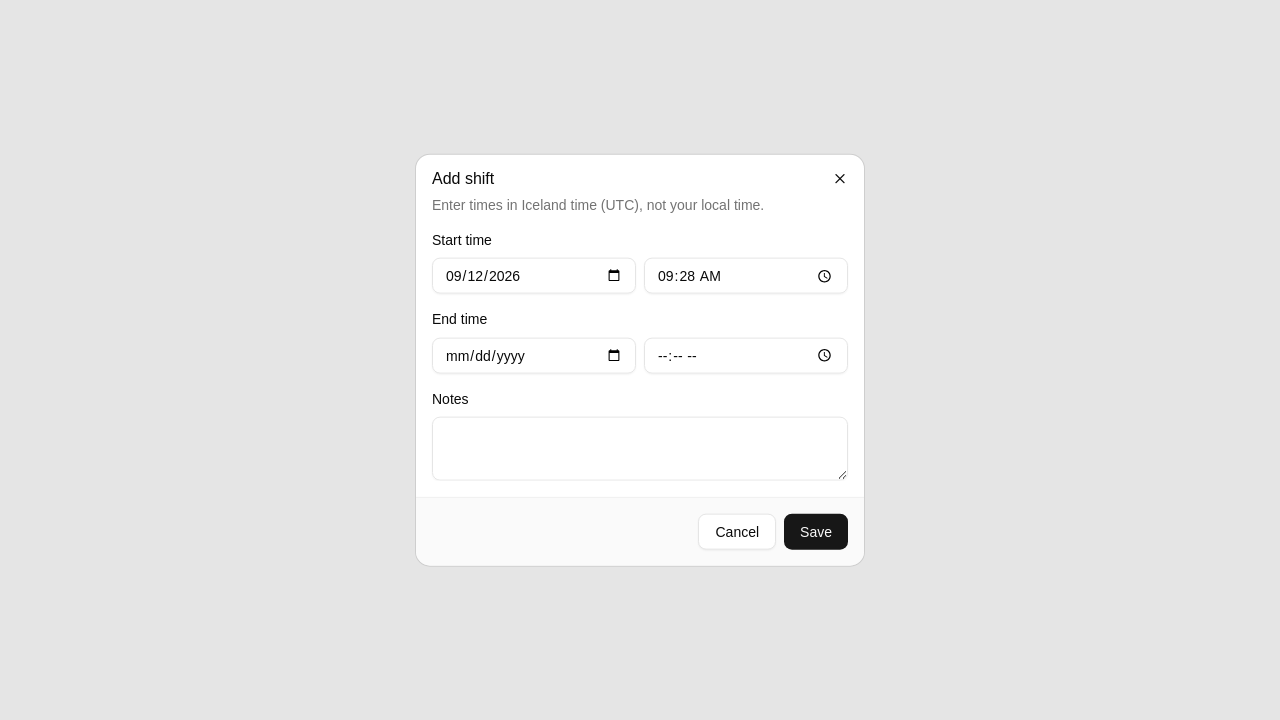
Test: ShiftForm › refuses a clock with no date beside it
Clear the date field named "Start time — date" at {"x": 534, "y": 276}, box x1=432 y1=258 x2=636 y2=294
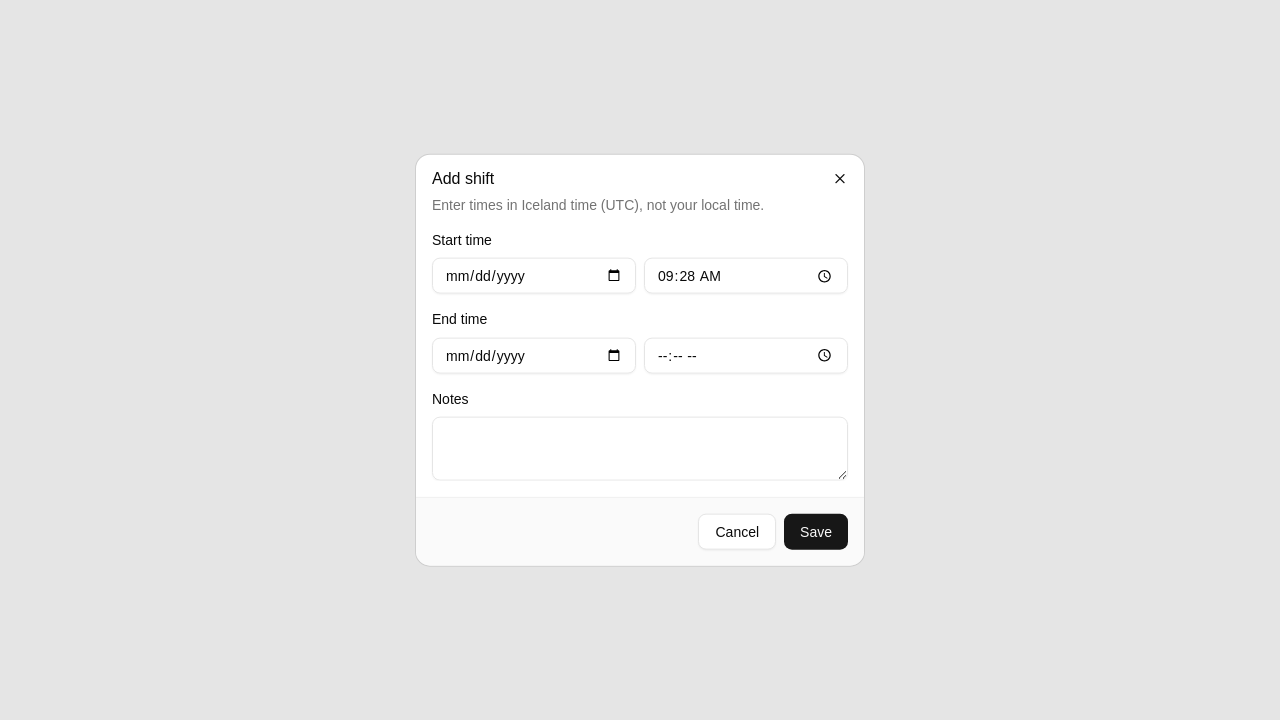
Replace the text in the time field named "Start time — time" with "08:00" at {"x": 746, "y": 276}, box x1=644 y1=258 x2=848 y2=294
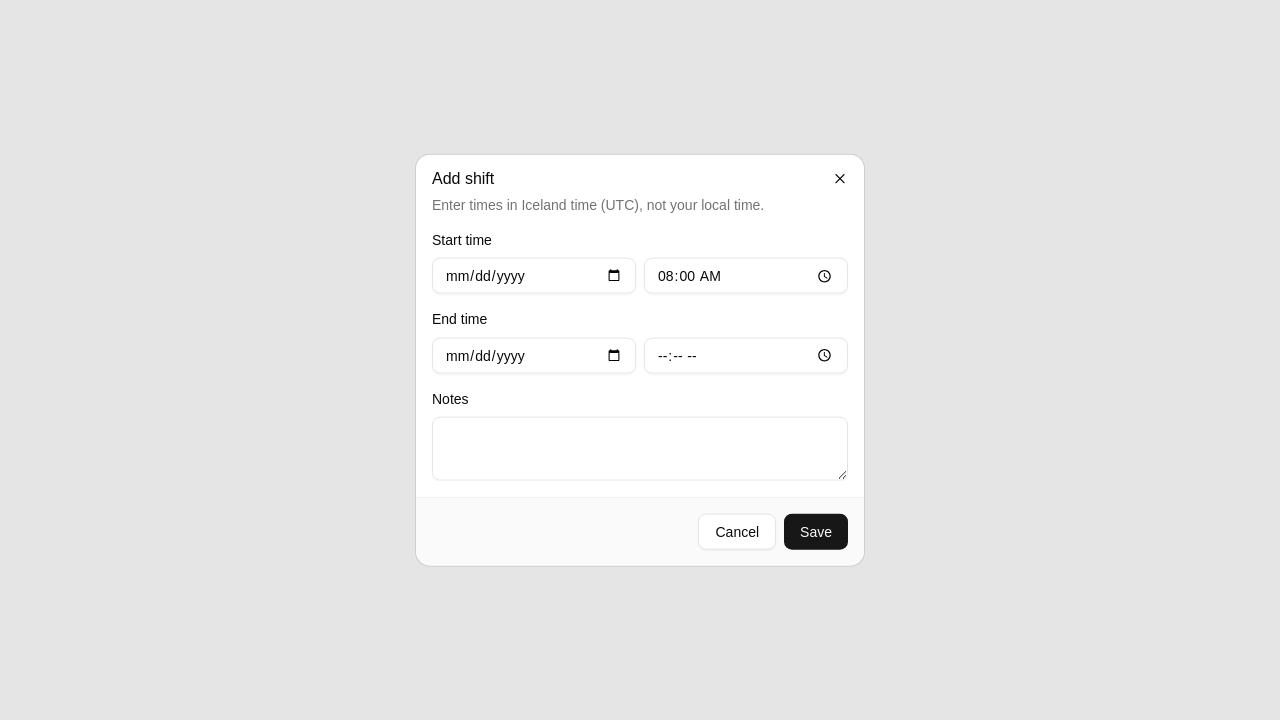
Click the button "Save" at {"x": 816, "y": 531}, box x1=784 y1=513 x2=848 y2=549
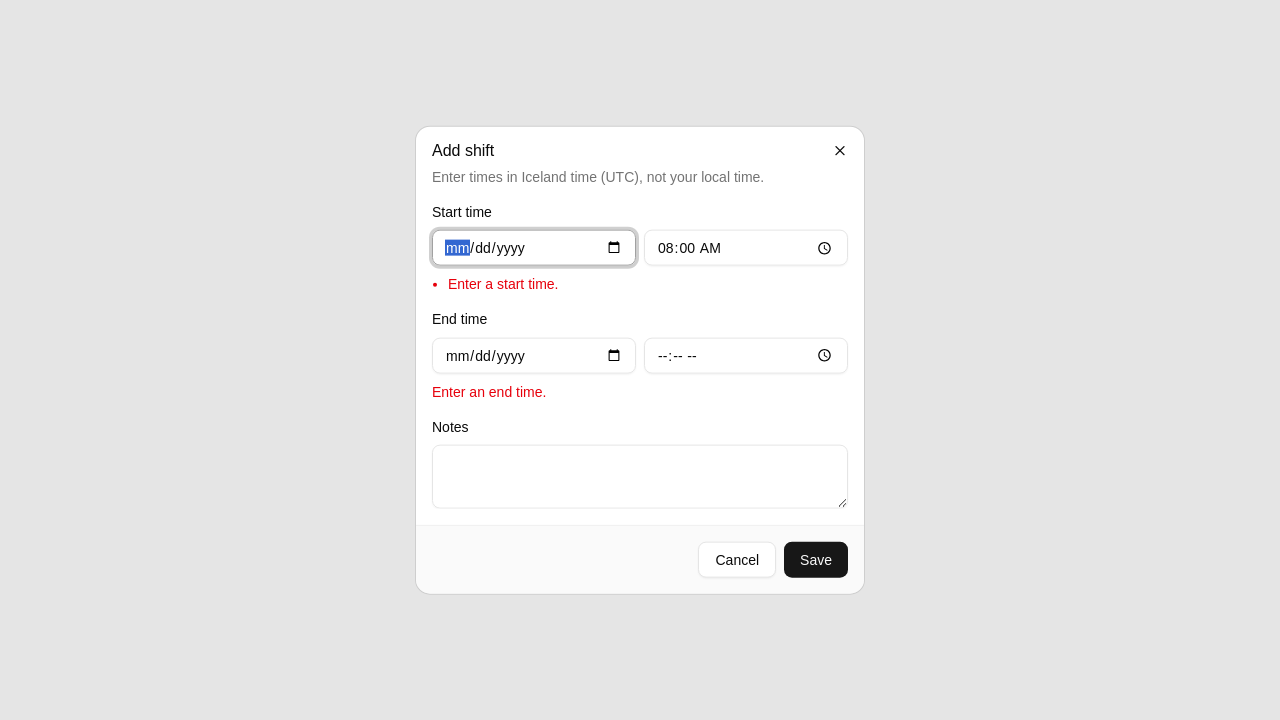
Check: the list item "Enter a start time." is shown, box x1=448 y1=276 x2=558 y2=292
